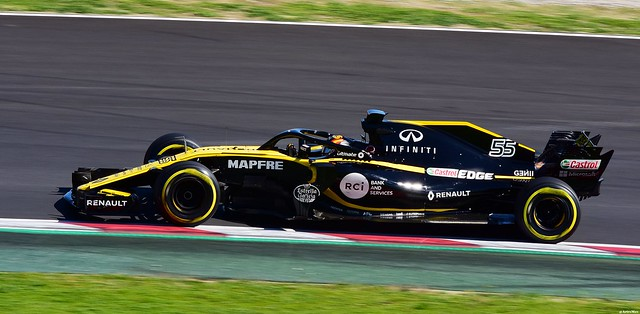F1 Car: (51, 107, 616, 245)
